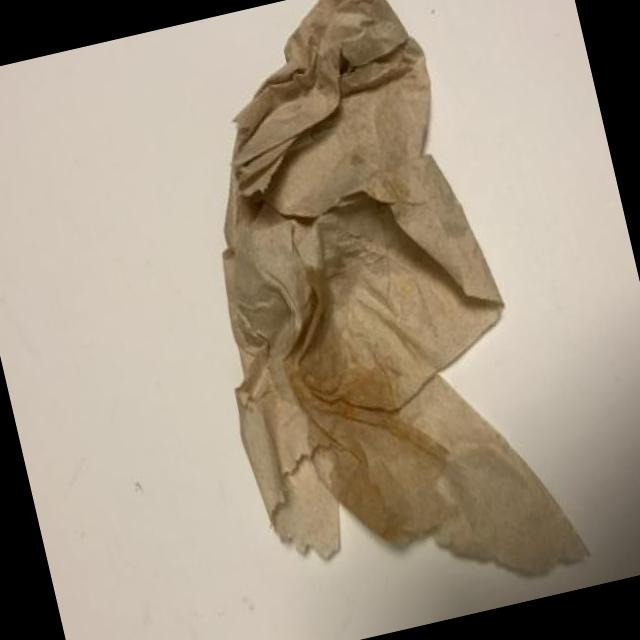Recycle: (147, 0, 594, 632)
